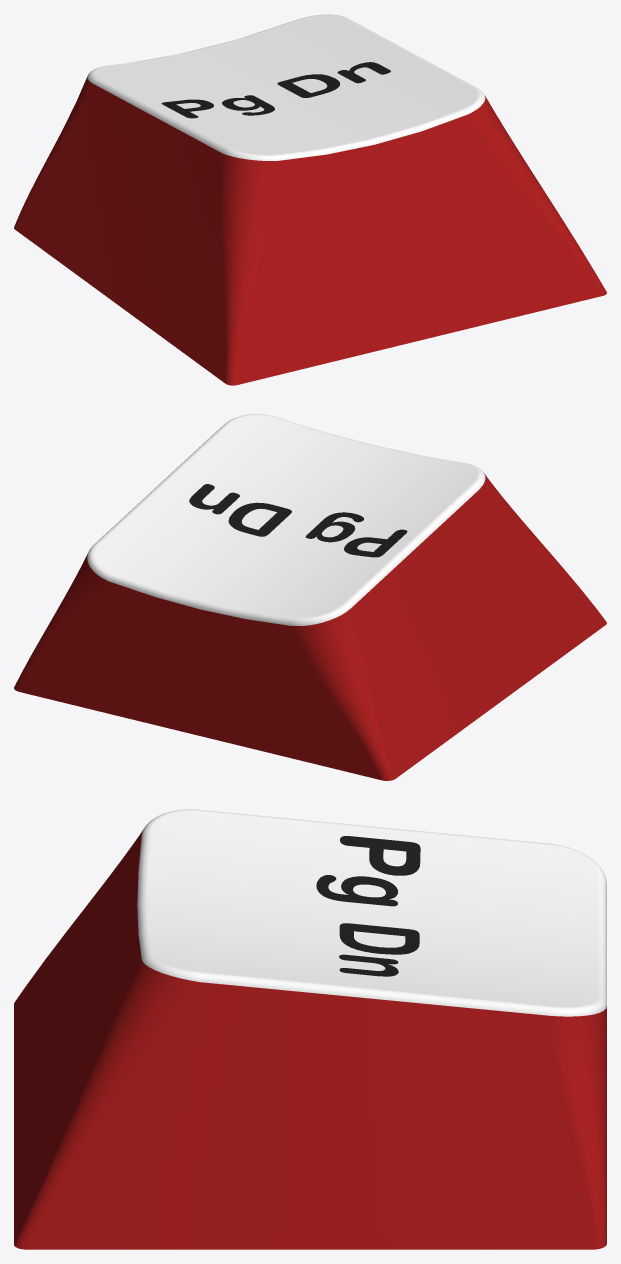
3 views of the same model, one above another, from view 1: azimuth 30°, elevation 25°; view 2: azimuth 150°, elevation 25°; view 3: azimuth 270°, elevation 25° (orthographic). The views are drawn at different scales.
Visible parts, largest first — view 1: Body1; view 2: Body1; view 3: Body1.
Part boxes in pixels (bbox=[...]): Body1: bbox=[14, 14, 606, 385]; Body1: bbox=[14, 414, 606, 780]; Body1: bbox=[14, 809, 606, 1249].
Bounding box in the file's own units: 18 × 7.85 × 18.
